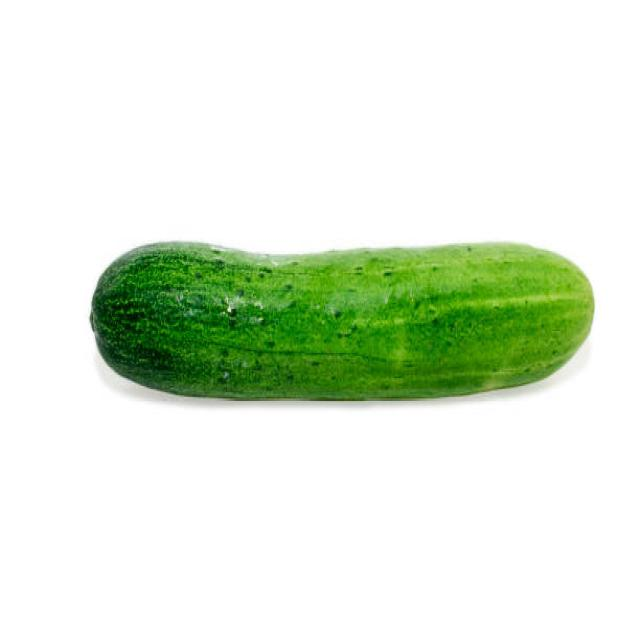cucumber: (97, 238, 594, 400)
